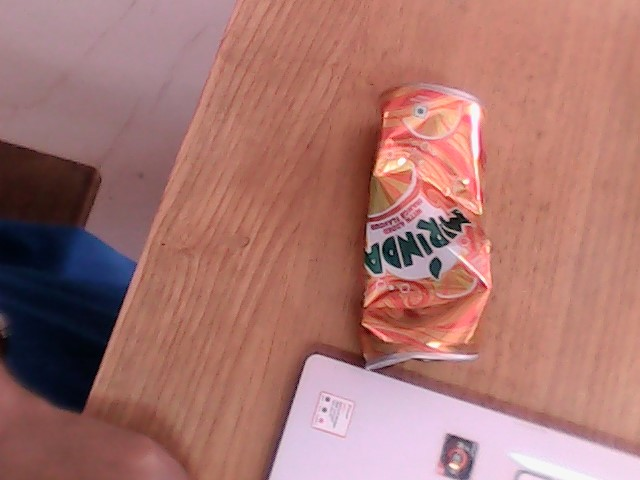Metal: (366, 84, 479, 360)
